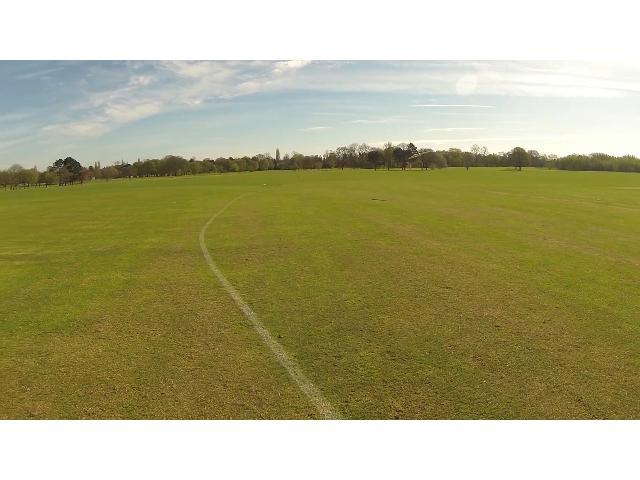Anti-Drone: (402, 141, 438, 169)
